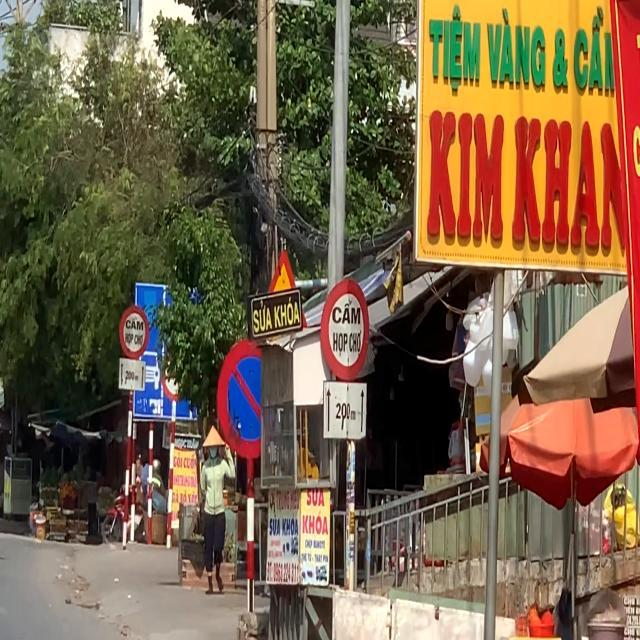Cam do xe: (212, 330, 273, 462)
